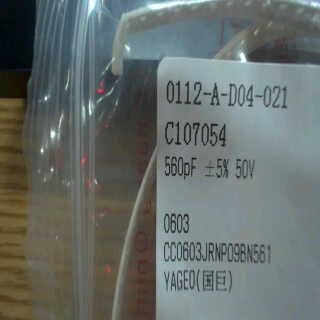560pF: (161, 154, 202, 183)
